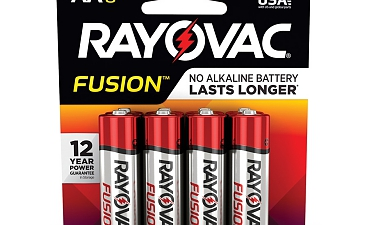Battery: (97, 109, 141, 225), (140, 109, 184, 225), (185, 108, 228, 225), (230, 109, 271, 225)
